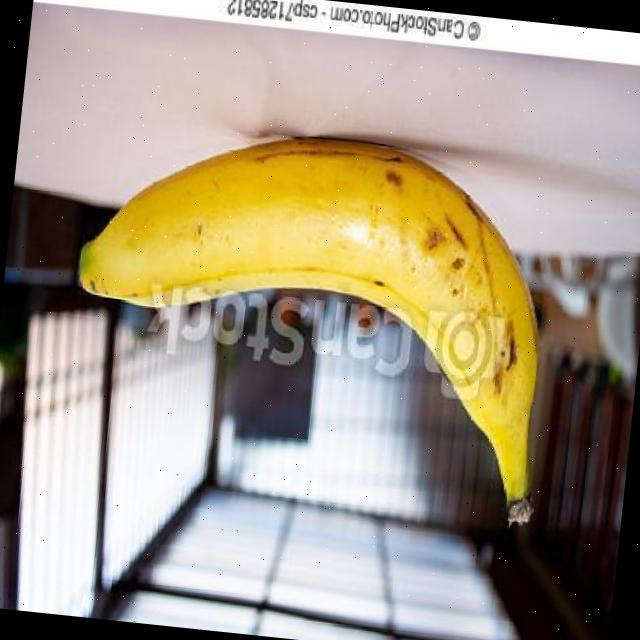banana: (76, 139, 534, 494)
